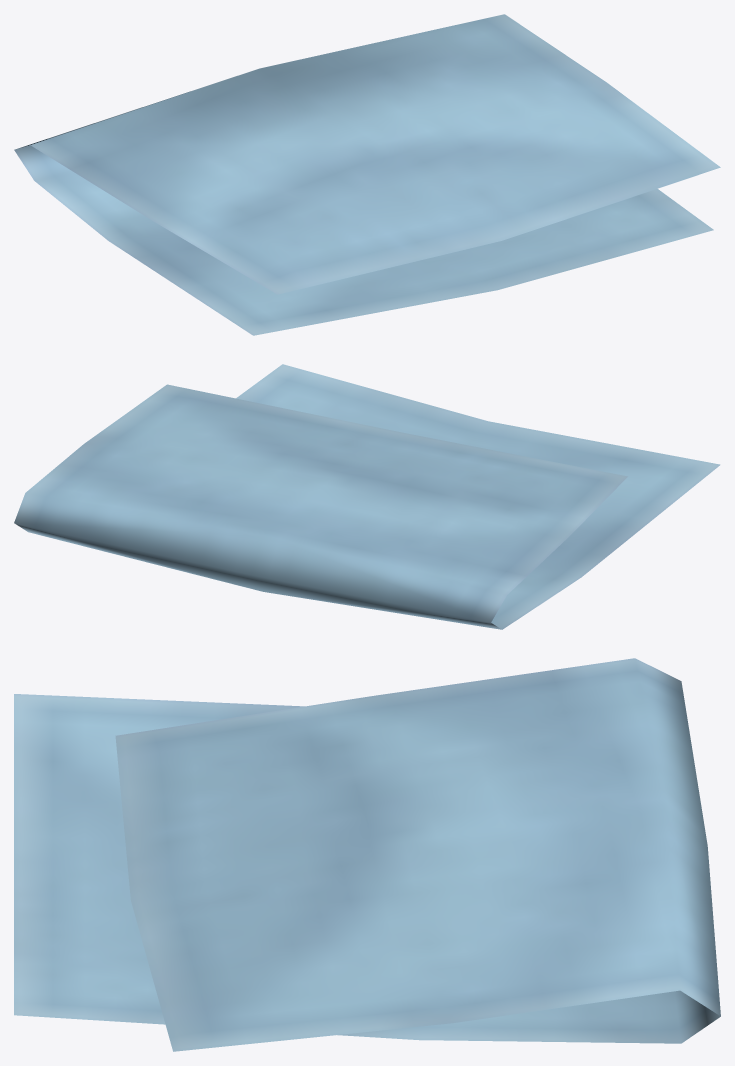
The model's file is jsf_DustCloth01_b.fbx.
The picture shows the model from 3 angles, top to bottom: view 1: azimuth 30°, elevation 25°; view 2: azimuth 150°, elevation 25°; view 3: azimuth 270°, elevation 25°; orthographic projection. The views are drawn at different scales.
Parts seen in each view (by area): view 1: jsf_DustCloth01_b; view 2: jsf_DustCloth01_b; view 3: jsf_DustCloth01_b.
Boxes of the visible parts, <box> form: jsf_DustCloth01_b: <box>14,14,720,335</box>; jsf_DustCloth01_b: <box>14,364,720,629</box>; jsf_DustCloth01_b: <box>14,658,720,1051</box>.
Bounding box in the file's own units: 17.56 × 2.27 × 14.76.
